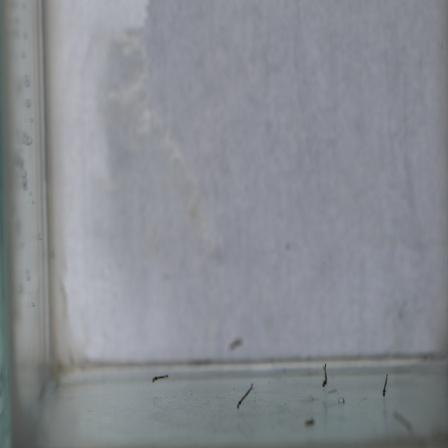Jentik-Nyamuk: (234, 379, 257, 412), (318, 361, 336, 390), (378, 368, 392, 399), (148, 371, 173, 387)
